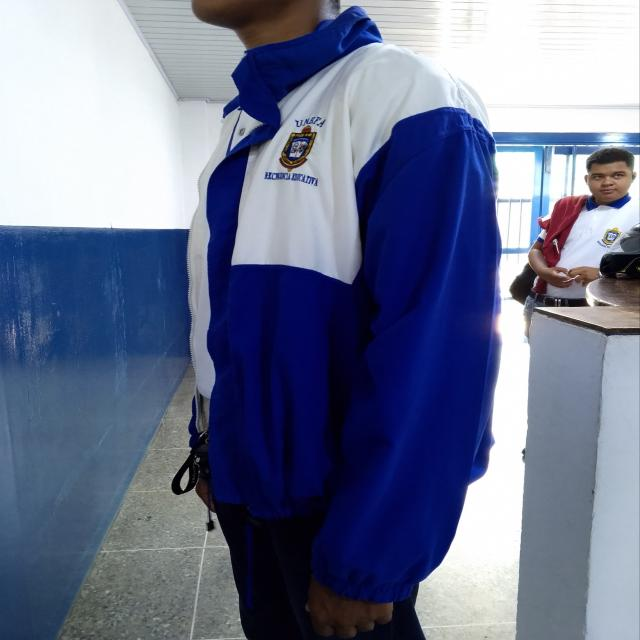chaqueta_unefa: (188, 4, 506, 604)
uniforme_superior: (536, 192, 640, 299)
